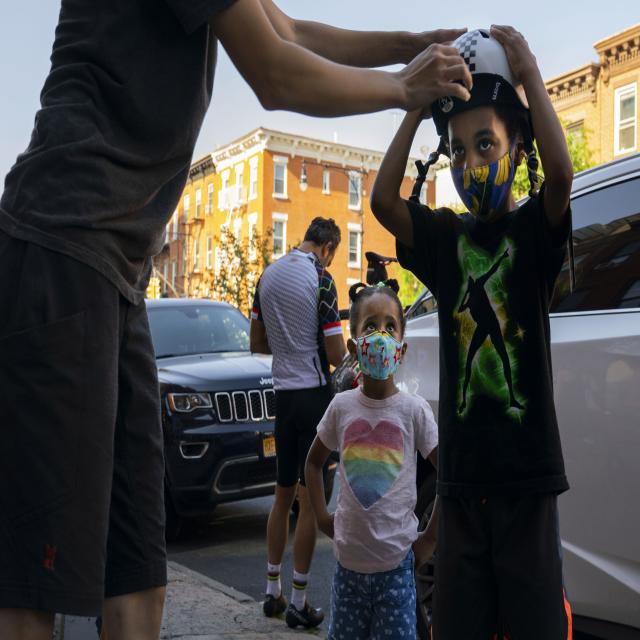adult: (244, 216, 339, 630)
child: (370, 23, 575, 640), (305, 277, 442, 640)
